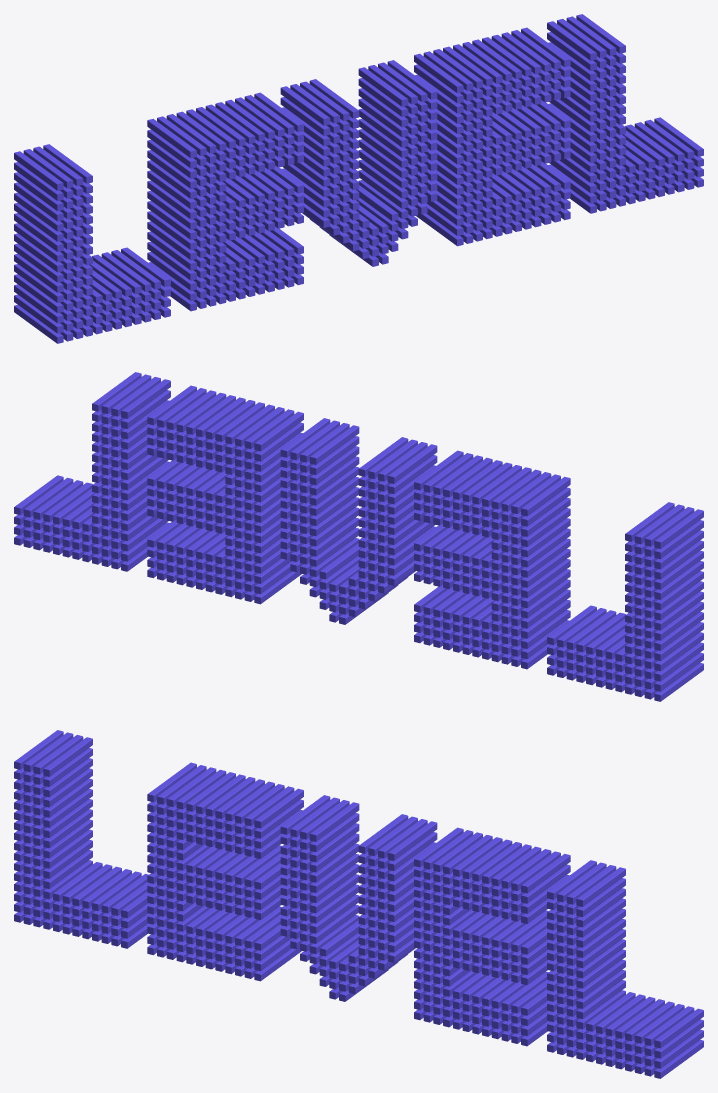
Rendered from LEVEL.fbx.
3 views of the same model, one above another, from view 1: azimuth 30°, elevation 25°; view 2: azimuth 150°, elevation 25°; view 3: azimuth 330°, elevation 25° (orthographic).
Visible parts, largest first — view 1: E, E_2, V, L, L_2; view 2: E, E_2, V, L, L_2; view 3: E, E_2, V, L_2, L.
Part boxes in pixels (x1=…): E: x1=147, y1=92, x2=303, y2=311; E_2: x1=414, y1=27, x2=570, y2=246; V: x1=280, y1=60, x2=437, y2=266; L: x1=14, y1=144, x2=170, y2=343; L_2: x1=547, y1=14, x2=703, y2=213; E: x1=414, y1=450, x2=570, y2=669; E_2: x1=147, y1=385, x2=303, y2=604; V: x1=280, y1=418, x2=437, y2=624; L: x1=547, y1=502, x2=703, y2=701; L_2: x1=14, y1=372, x2=170, y2=571; E: x1=147, y1=762, x2=303, y2=981; E_2: x1=414, y1=827, x2=570, y2=1046; V: x1=280, y1=795, x2=437, y2=1001; L_2: x1=547, y1=860, x2=703, y2=1078; L: x1=14, y1=730, x2=150, y2=948.
Bounding box in the file's own units: 778 × 184 × 90.
